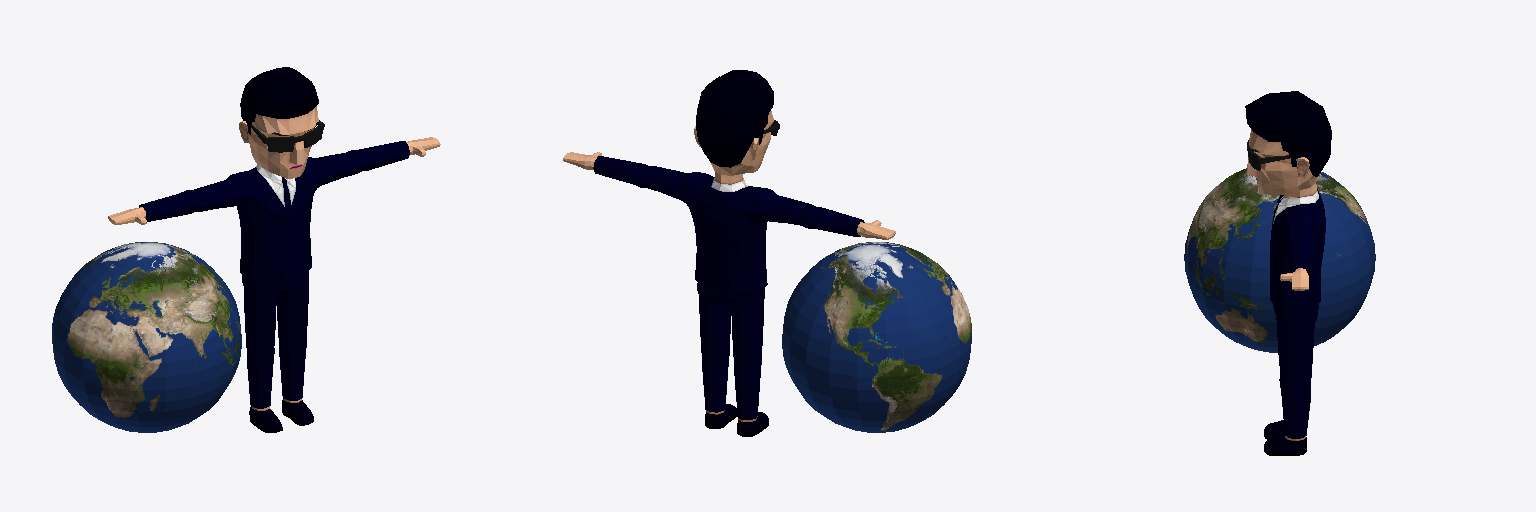
The picture shows the model from 3 angles: view 1: azimuth 30°, elevation 25°; view 2: azimuth 150°, elevation 25°; view 3: azimuth 270°, elevation 25°; orthographic projection.
Visible parts, largest first — view 1: pSphere1, py; view 2: pSphere1, py; view 3: pSphere1, py.
Boxes of the visible parts, x1=… form: pSphere1: x1=52, y1=242, x2=241, y2=432; py: x1=108, y1=67, x2=440, y2=432; pSphere1: x1=782, y1=242, x2=971, y2=432; py: x1=563, y1=70, x2=895, y2=436; pSphere1: x1=1184, y1=168, x2=1375, y2=352; py: x1=1245, y1=91, x2=1331, y2=455.
Bounding box in the file's own units: 27.78 × 24.04 × 12.
Materials: 3 (2 with a texture image).